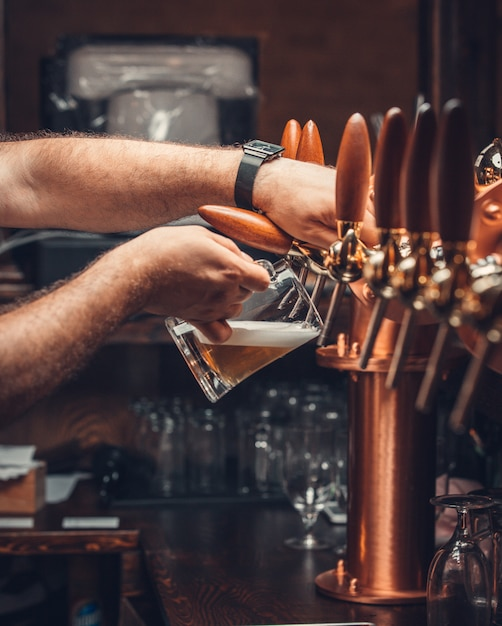alcohol: (160, 257, 326, 403)
